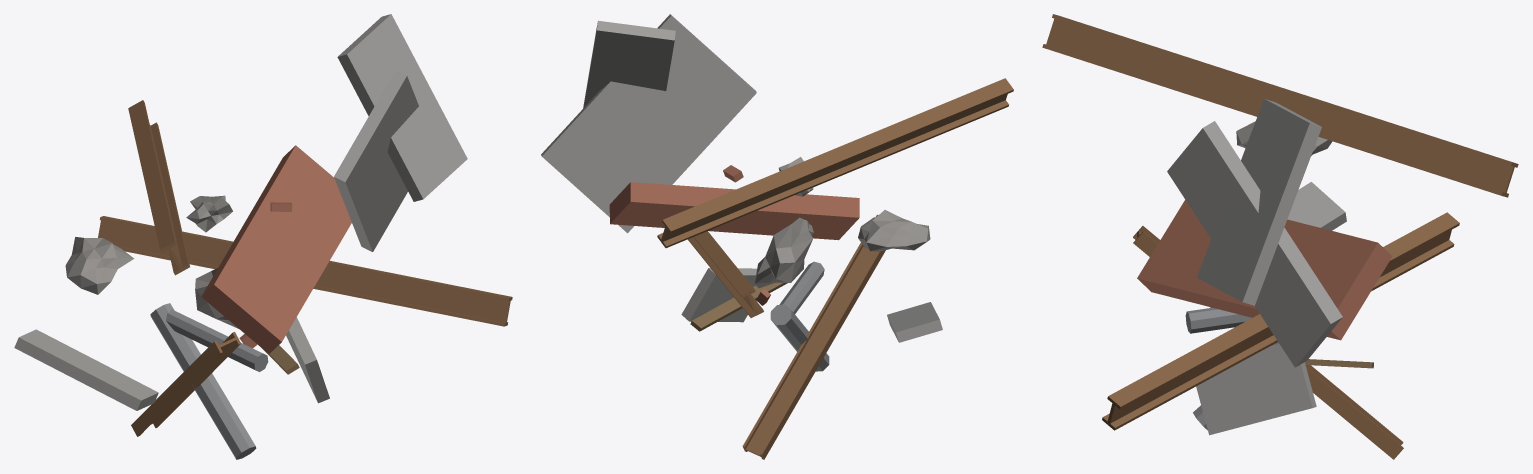
File: batch_RUBBLE_p002_p000.glb
3 views of the same model, side by side, from view 1: azimuth 30°, elevation 25°; view 2: azimuth 150°, elevation 25°; view 3: azimuth 270°, elevation 25° (orthographic). The views are drawn at different scales.
Visible parts, largest first — view 1: SAR_Building_URB_004_CollapsedSlab_02.001; view 2: SAR_Building_URB_004_CollapsedSlab_02.001; view 3: SAR_Building_URB_004_CollapsedSlab_02.001.
Boxes of the visible parts, bbox=[...] form: SAR_Building_URB_004_CollapsedSlab_02.001: bbox=[14, 14, 512, 459]; SAR_Building_URB_004_CollapsedSlab_02.001: bbox=[541, 14, 1013, 459]; SAR_Building_URB_004_CollapsedSlab_02.001: bbox=[1042, 14, 1518, 459].
Bounding box in the file's own units: 8.9 × 7.88 × 7.54.
